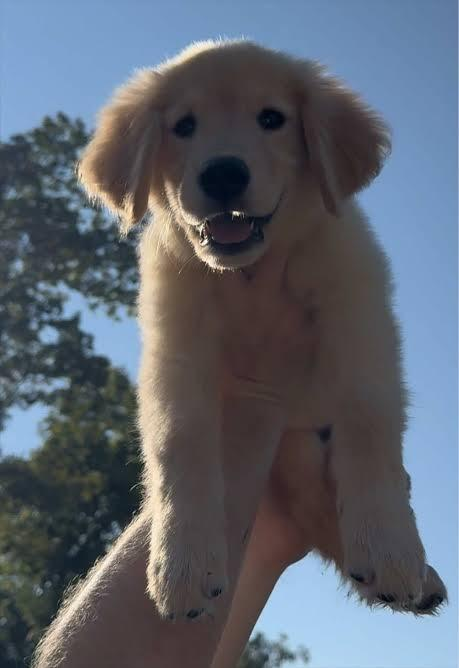puppy-dog: (76, 37, 450, 624)
